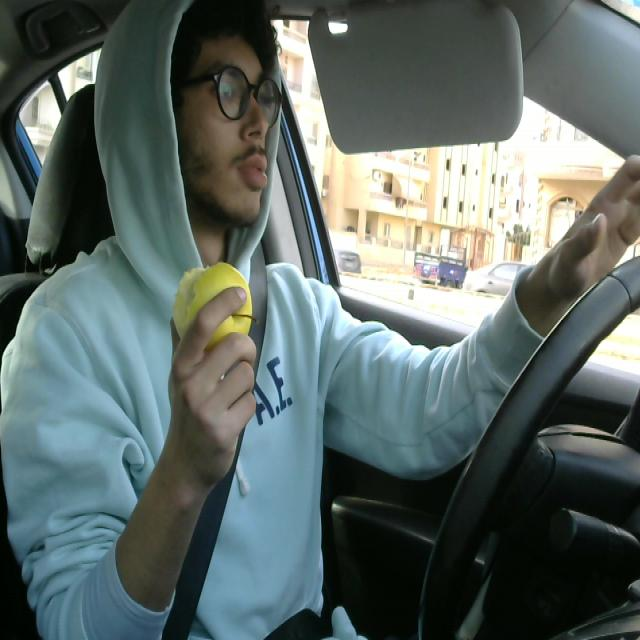eating: (168, 259, 258, 350)
